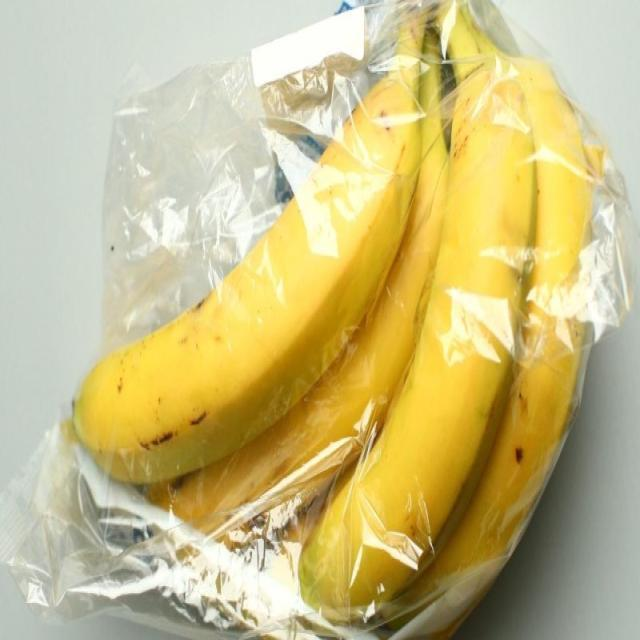Banana: (80, 7, 598, 640)
